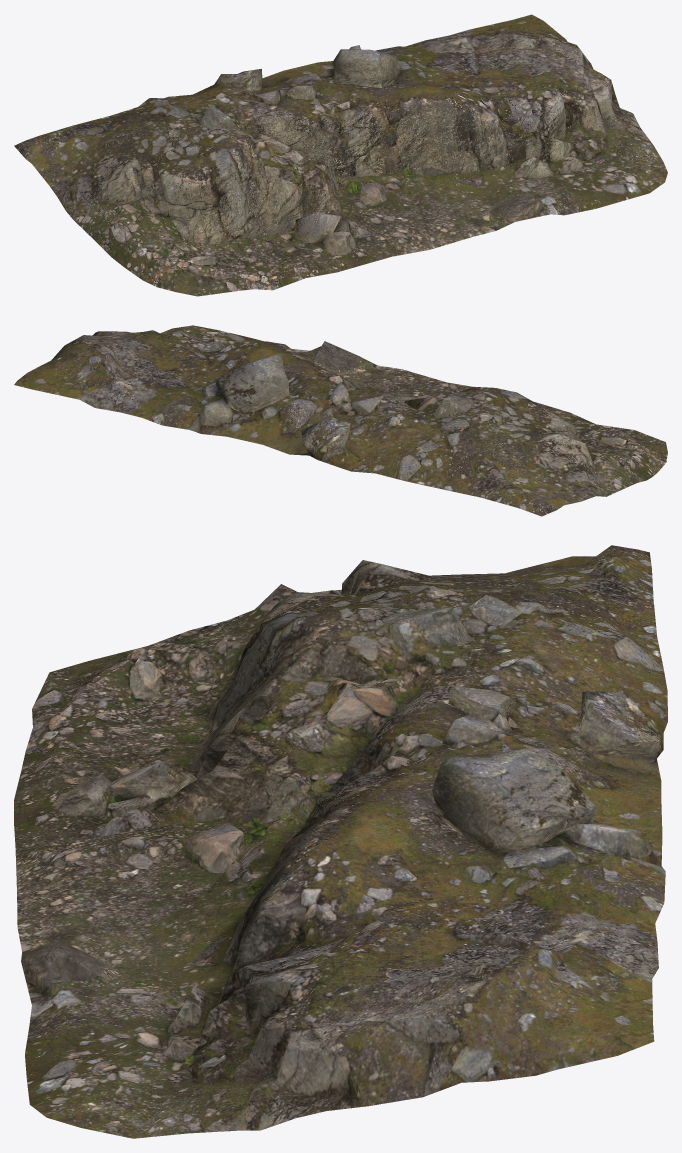
Rendered from massive_tundra_rock_formation_wd4icipcb_low.glb.
3 views of the same model, one above another, from view 1: azimuth 30°, elevation 25°; view 2: azimuth 150°, elevation 25°; view 3: azimuth 270°, elevation 25° (orthographic). The views are drawn at different scales.
Visible parts, largest first — view 1: wd4icipcb_LOD0_TIER3_000; view 2: wd4icipcb_LOD0_TIER3_000; view 3: wd4icipcb_LOD0_TIER3_000.
Boxes of the visible parts, <box> form: wd4icipcb_LOD0_TIER3_000: <box>14,14,667,296</box>; wd4icipcb_LOD0_TIER3_000: <box>14,325,667,516</box>; wd4icipcb_LOD0_TIER3_000: <box>14,545,667,1138</box>.
Bounding box in the file's own units: 26.3 × 4.65 × 14.12.
1 material, 1 textured.
